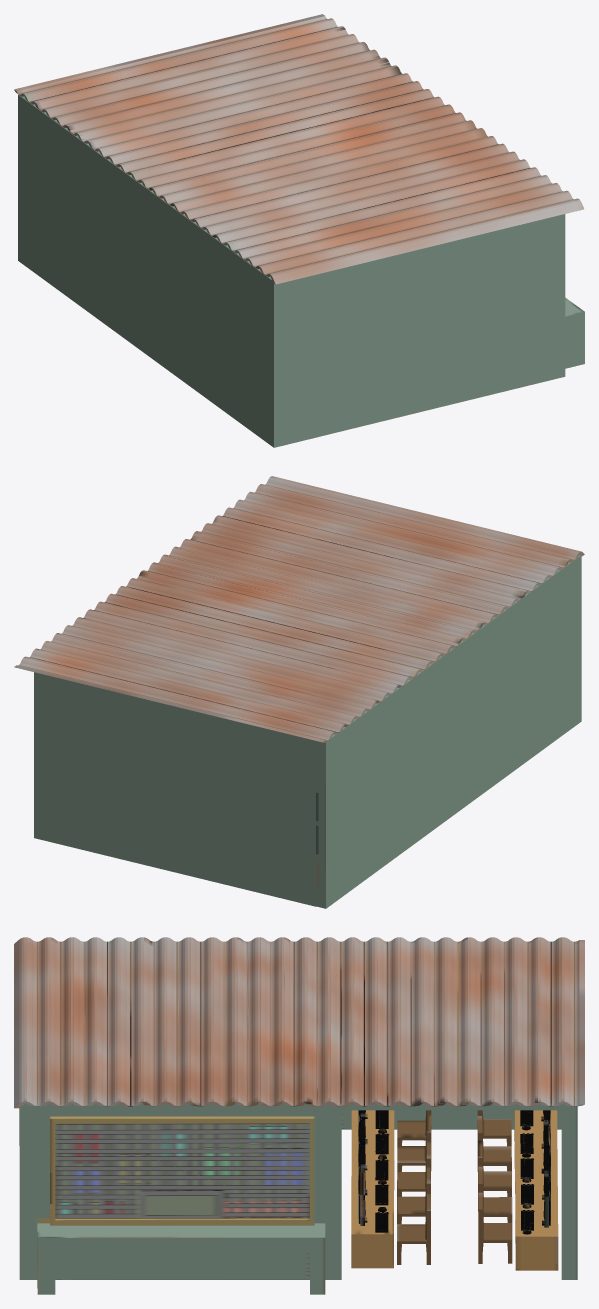
File: comshop.fbx
The picture shows the model from 3 angles, top to bottom: view 1: azimuth 30°, elevation 25°; view 2: azimuth 150°, elevation 25°; view 3: azimuth 270°, elevation 25°; orthographic projection. The views are drawn at different scales.
Visible parts, largest first — view 1: computerr; view 2: computerr; view 3: computerr.
Part boxes in pixels (bbox=[...]): computerr: bbox=[14, 14, 584, 447]; computerr: bbox=[14, 476, 584, 908]; computerr: bbox=[14, 937, 584, 1294].
Bounding box in the file's own units: 2368 × 1214 × 3354.
Materials: 1 (1 with a texture image).
